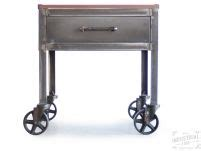Carts: (22, 4, 160, 135)
